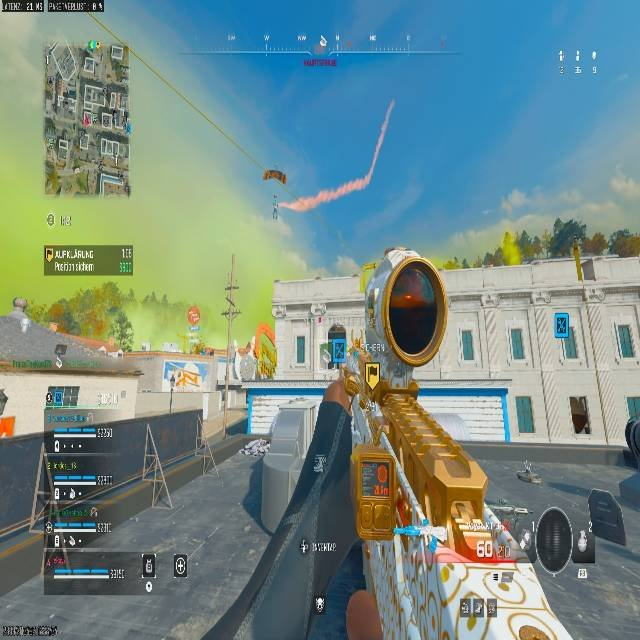player: (323, 322, 349, 374)
